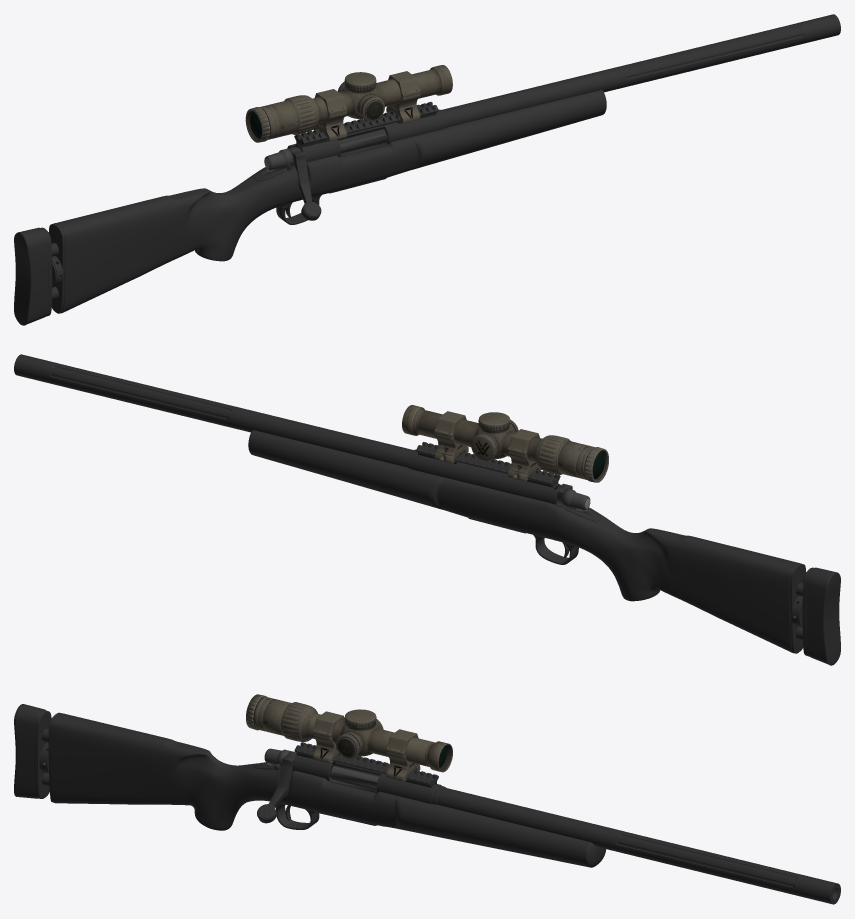
The model's file is gun_sniper_lite.glb.
The picture shows the model from 3 angles, top to bottom: view 1: azimuth 30°, elevation 25°; view 2: azimuth 150°, elevation 25°; view 3: azimuth 330°, elevation 25°; orthographic projection.
Visible parts, largest first — view 1: Rifle Stock.001, Rifle Barrel, Scope, Buttstock, Scope Mount, Scope Rail Mount, Rifle Bolt, Rifle Bolt Handle, Stock Metal Foundation 2; view 2: Rifle Stock.001, Rifle Barrel, Scope, Buttstock, Scope Mount, Scope Rail Mount, Stock Metal Foundation 2, Trigger Guard; view 3: Rifle Stock.001, Rifle Barrel, Scope, Scope Mount, Buttstock, Scope Rail Mount, Rifle Bolt, Rifle Bolt Handle, Stock Metal Foundation 1, Trigger Guard.
Boxes of the visible parts, left/top/right/bottom form: Rifle Stock.001: left=53, top=90, right=606, bottom=313; Rifle Barrel: left=287, top=14, right=840, bottom=162; Scope: left=245, top=65, right=452, bottom=142; Buttstock: left=14, top=227, right=48, bottom=325; Scope Mount: left=313, top=71, right=420, bottom=141; Scope Rail Mount: left=294, top=102, right=438, bottom=147; Rifle Bolt: left=264, top=129, right=387, bottom=172; Rifle Bolt Handle: left=288, top=146, right=321, bottom=220; Stock Metal Foundation 2: left=48, top=223, right=64, bottom=313; Rifle Stock.001: left=248, top=430, right=799, bottom=653; Rifle Barrel: left=14, top=354, right=560, bottom=504; Scope: left=402, top=405, right=608, bottom=482; Buttstock: left=806, top=567, right=840, bottom=665; Scope Mount: left=434, top=411, right=541, bottom=481; Scope Rail Mount: left=416, top=442, right=560, bottom=487; Stock Metal Foundation 2: left=790, top=563, right=806, bottom=653; Trigger Guard: left=468, top=518, right=578, bottom=564; Rifle Stock.001: left=50, top=713, right=606, bottom=867; Rifle Barrel: left=292, top=754, right=840, bottom=904; Scope: left=246, top=694, right=452, bottom=772; Scope Mount: left=313, top=711, right=420, bottom=781; Buttstock: left=14, top=704, right=45, bottom=798; Scope Rail Mount: left=294, top=742, right=438, bottom=787; Rifle Bolt: left=264, top=748, right=378, bottom=789; Rifle Bolt Handle: left=257, top=751, right=296, bottom=823; Stock Metal Foundation 1: left=34, top=710, right=51, bottom=798; Trigger Guard: left=276, top=803, right=383, bottom=829.
Bounding box in the file's own units: 18.96 × 3.64 × 1.59.
Materials: 8 (7 with a texture image).
